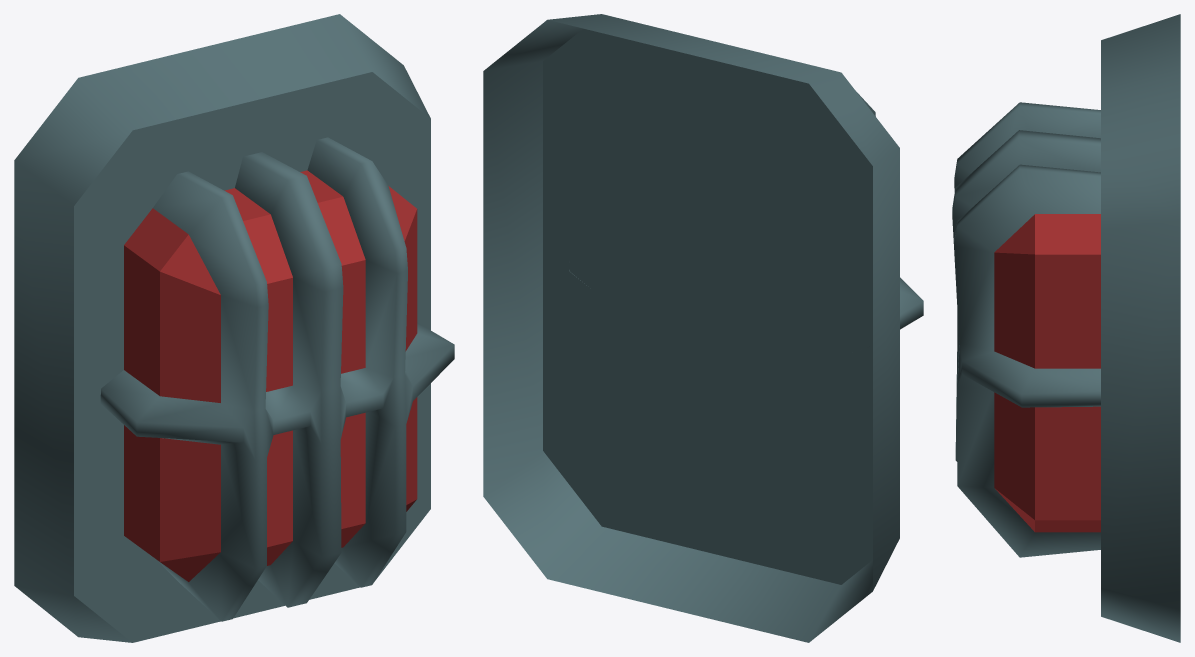
The model's file is Siren.fbx.
3 views of the same model, side by side, from view 1: azimuth 30°, elevation 25°; view 2: azimuth 150°, elevation 25°; view 3: azimuth 270°, elevation 25° (orthographic). The views are drawn at different scales.
Visible parts, largest first — view 1: Siren; view 2: Siren; view 3: Siren.
Part boxes in pixels (left/top/right/bottom): Siren: left=14, top=14, right=454, bottom=642; Siren: left=483, top=14, right=923, bottom=642; Siren: left=952, top=14, right=1180, bottom=642.
Bounding box in the file's own units: 28.32 × 38.85 × 15.7.
